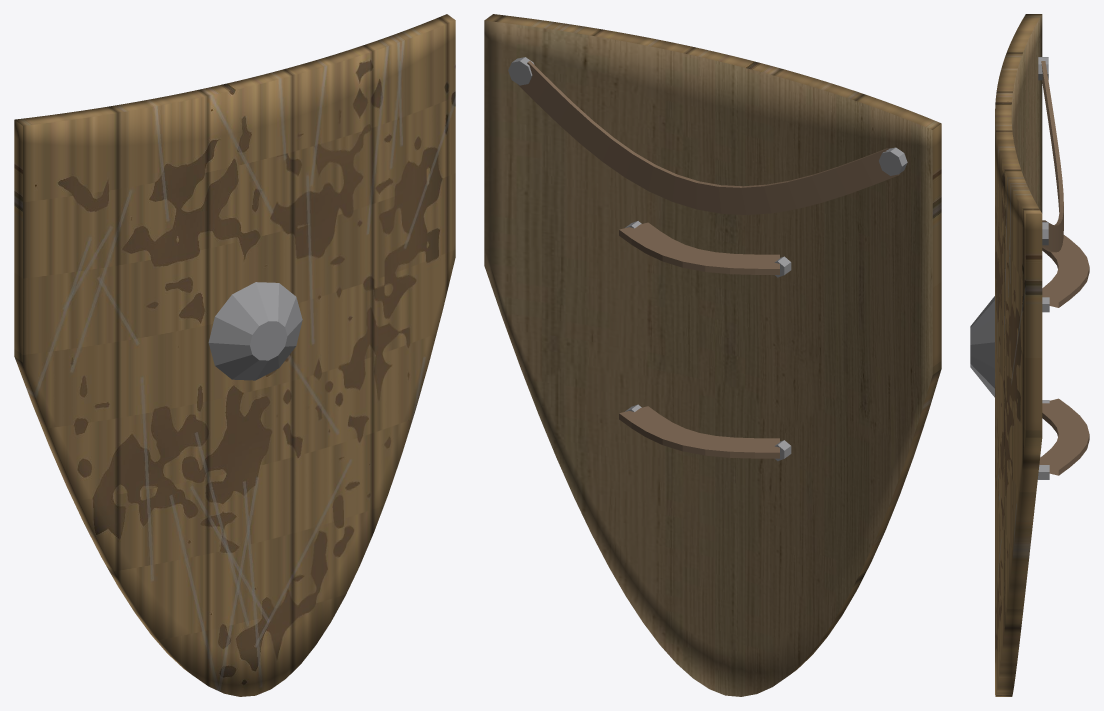
File: heater_plain_p1_w2.glb
3 views of the same model, side by side, from view 1: azimuth 30°, elevation 25°; view 2: azimuth 150°, elevation 25°; view 3: azimuth 270°, elevation 25° (orthographic). The views are drawn at different scales.
Visible parts, largest first — view 1: heater_plain_p1_w2; view 2: heater_plain_p1_w2; view 3: heater_plain_p1_w2.
Part boxes in pixels (x1,y1,x2,y2): heater_plain_p1_w2: [14, 14, 455, 696]; heater_plain_p1_w2: [484, 14, 941, 696]; heater_plain_p1_w2: [970, 14, 1089, 696].
Size of the model in its own units: 0.46 by 0.62 by 0.116.
Materials: 4 (2 with a texture image).
